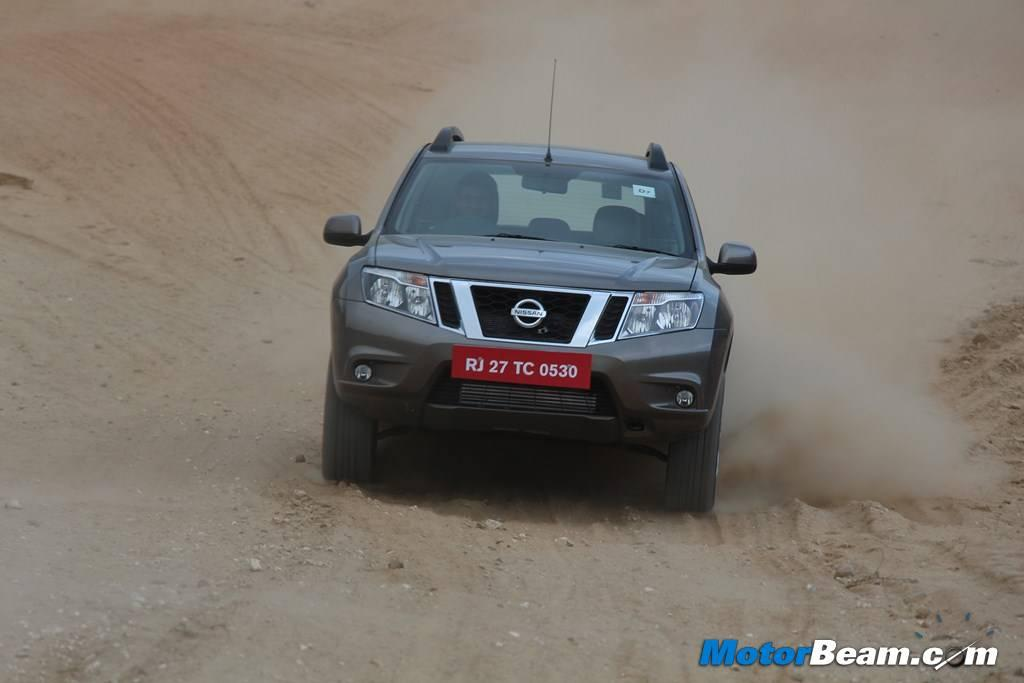licence-plate: (448, 340, 591, 389)
